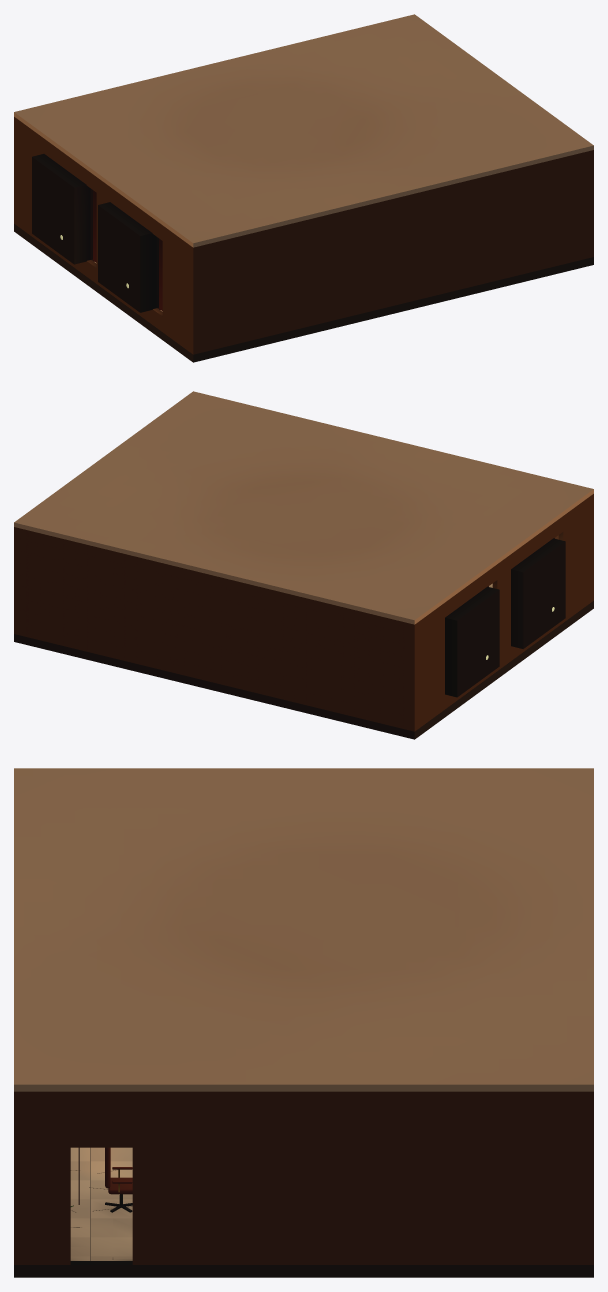
The model's file is yonetim-ofisi.0240ae7b7f21.glb.
The picture shows the model from 3 angles, top to bottom: view 1: azimuth 30°, elevation 25°; view 2: azimuth 150°, elevation 25°; view 3: azimuth 270°, elevation 25°; orthographic projection. The views are drawn at different scales.
Parts seen in each view (by area): view 1: ceiling, wall_S, wall_W, floor; view 2: ceiling, wall_N, wall_W, floor; view 3: ceiling, wall_E, floor, wall_N, wall_S, room.
Boxes of the visible parts, x1,y1,x2,y2 form: ceiling: (14,14,593,247); wall_S: (190,150,593,354); wall_W: (16,119,190,351); floor: (14,224,593,362); ceiling: (14,391,593,624); wall_N: (14,527,417,731); wall_W: (417,496,591,728); floor: (14,583,593,739); ceiling: (14,768,593,1091); wall_E: (23,1091,584,1264); floor: (14,1147,593,1277); wall_N: (585,1091,593,1264); wall_S: (14,1091,22,1264); room: (70,1147,132,1212).
Bounding box in the file's own units: 13.76 × 3.79 × 10.32.
